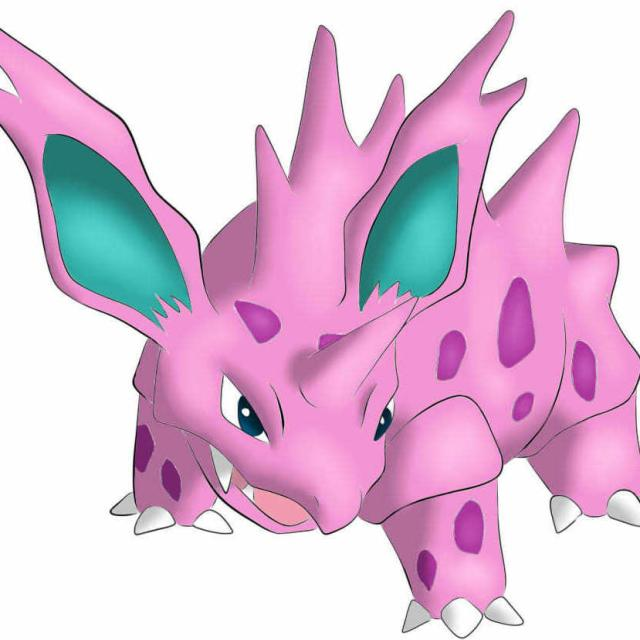Nidorino: (34, 18, 640, 534)
